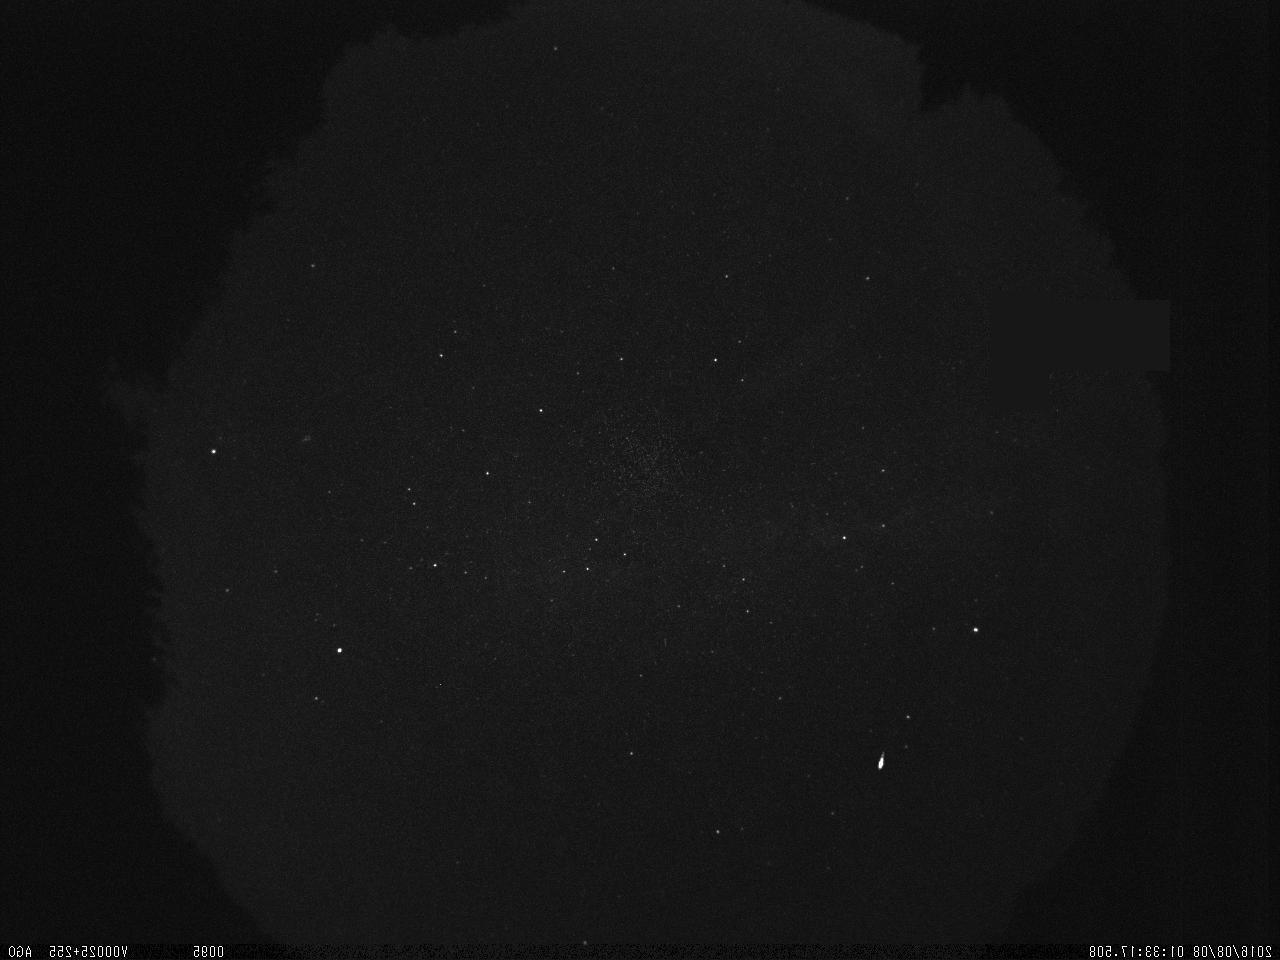meteor: (868, 747, 895, 776)
